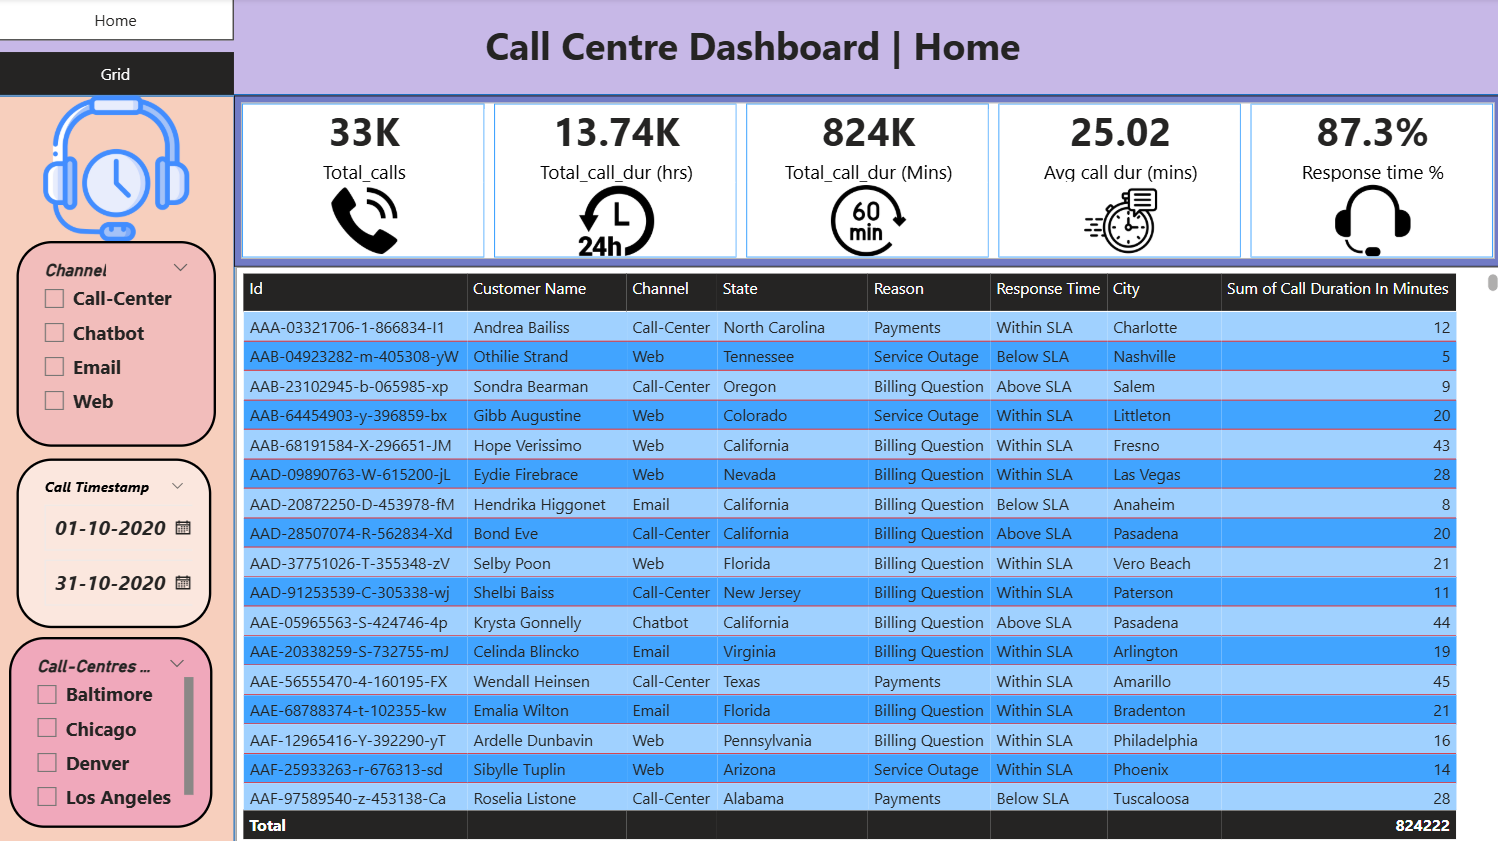

Layout of this report page (visuals, bound fields, positions):
{"tool":"powerbi","page":{"name":"Grid","canvas":[1280,720],"ordinal":1},"visuals":[{"type":"shape","box":[0,0,1279.5,82.5],"z":0},{"type":"shape","box":[0,82.5,201.8,637.5],"z":1000},{"type":"cardVisual","fields":{"Data":["All Measures.Total_calls","All Measures.Total_call_dur (hrs)","All Measures.Total_call_dur (Mins)","All Measures.Avg call dur (mins)","All Measures.Response time %"]},"box":[201.8,82.5,1077.7,145.2],"z":2000},{"type":"textbox","box":[371.5,12.2,539.6,59.6],"z":3000},{"type":"image","box":[16.8,82.5,169.7,123.8],"z":4000},{"type":"slicer","fields":{"Values":["Call Center.Call Timestamp"]},"box":[16.8,391.3,165.1,143.7],"z":5000},{"type":"slicer","fields":{"Values":["Call Center.Channel"]},"box":[16.6,206.3,169.3,174.4],"z":6000},{"type":"slicer","fields":{"Values":["Call Center.Call-Centres City"]},"box":[10.7,542.7,172.7,162],"z":7000},{"type":"tableEx","fields":{"Values":["Call Center.Id","Call Center.Customer Name","Call Center.Channel","Call Center.State","Call Center.Reason","Call Center.Response Time","Call Center.City","Sum(Call Center.Call Duration In Minutes)"]},"box":[202,228,1078,492],"z":8000},{"type":"pageNavigator","box":[0,0,201.2,82.8],"z":8001}]}

Visuals, with their boxes on the page's 1280x720 design canvas (x1, y1, x2, y2). These are canvas units, not pixel positions in the 1498x841 screenshot, which may show the page scaled, cropped or inside an application window:
shape: <bbox>0, 0, 1280, 82</bbox>
shape: <bbox>0, 82, 202, 720</bbox>
cardVisual - All Measures.Total_calls x All Measures.Total_call_dur (hrs): <bbox>202, 82, 1280, 228</bbox>
textbox: <bbox>372, 12, 911, 72</bbox>
image: <bbox>17, 82, 186, 206</bbox>
slicer - Call Center.Call Timestamp: <bbox>17, 391, 182, 535</bbox>
slicer - Call Center.Channel: <bbox>17, 206, 186, 381</bbox>
slicer - Call Center.Call-Centres City: <bbox>11, 543, 183, 705</bbox>
tableEx - Call Center.Id x Call Center.Customer Name: <bbox>202, 228, 1280, 720</bbox>
pageNavigator: <bbox>0, 0, 201, 83</bbox>
